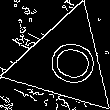O_W: (33, 34, 96, 90)
